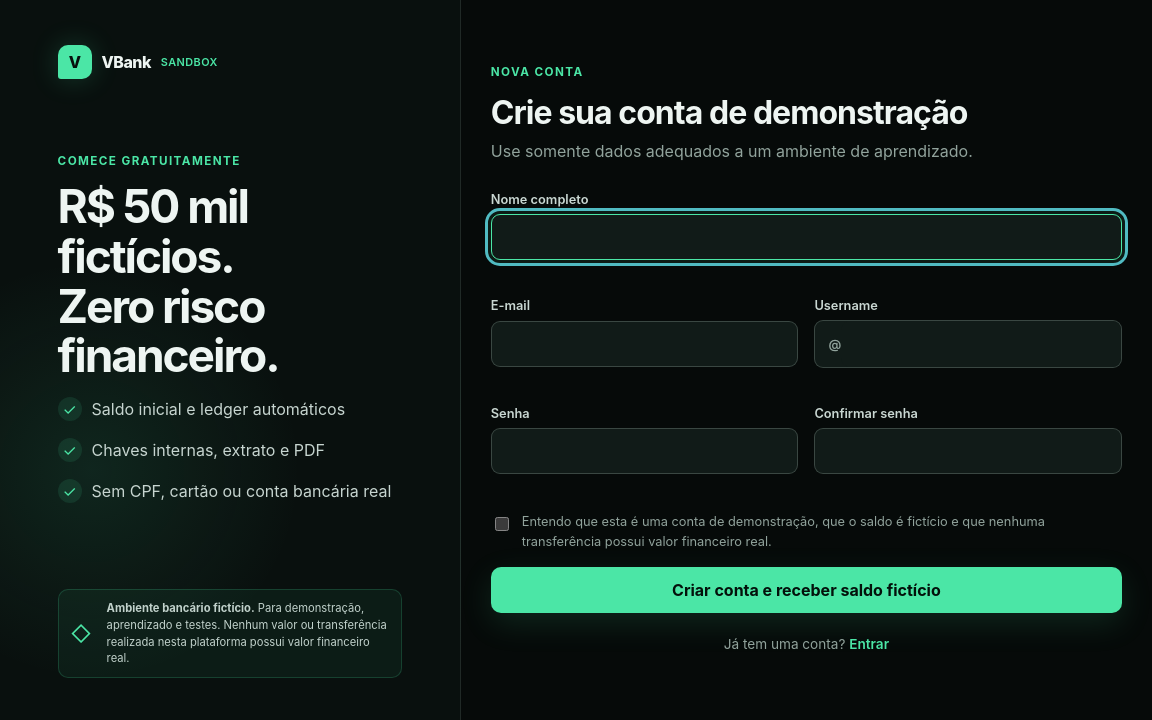
Test: autenticação e validação › não aceita cadastro sem os termos fictícios
Click the button "Criar conta e receber saldo fictício". click: [806, 590]
box: 491,567 -> 1122,613
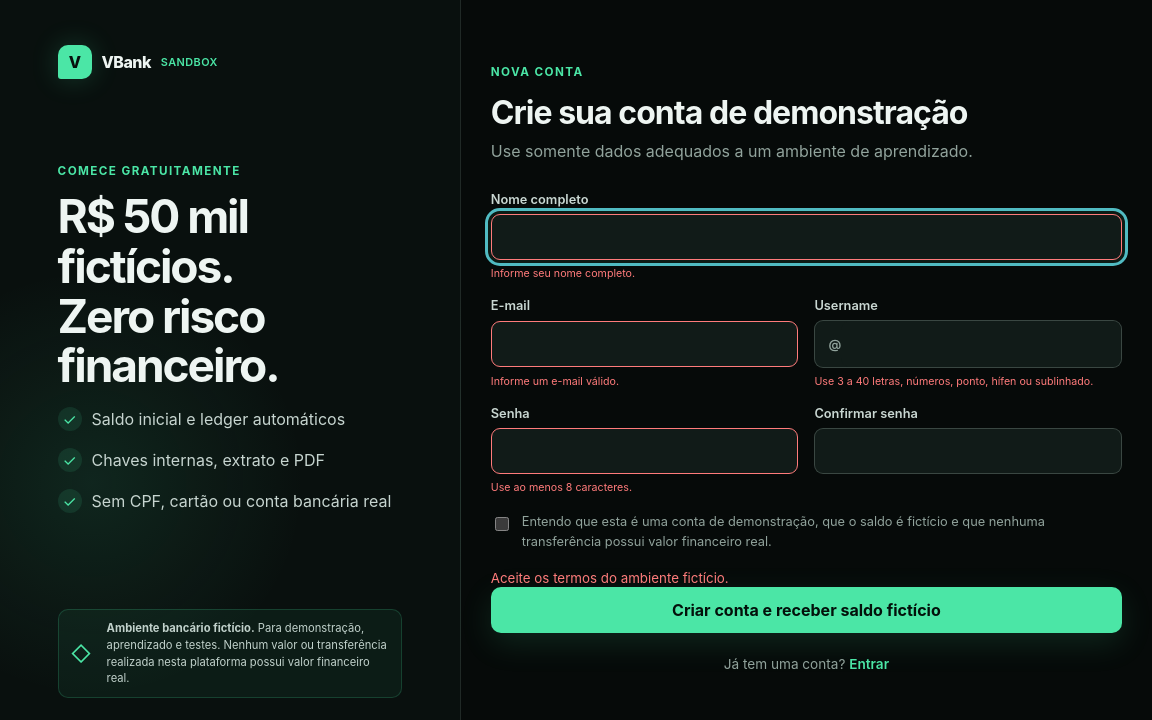
Check: the text "Aceite os termos do ambiente fictício." is shown, box 491,570 -> 729,586
